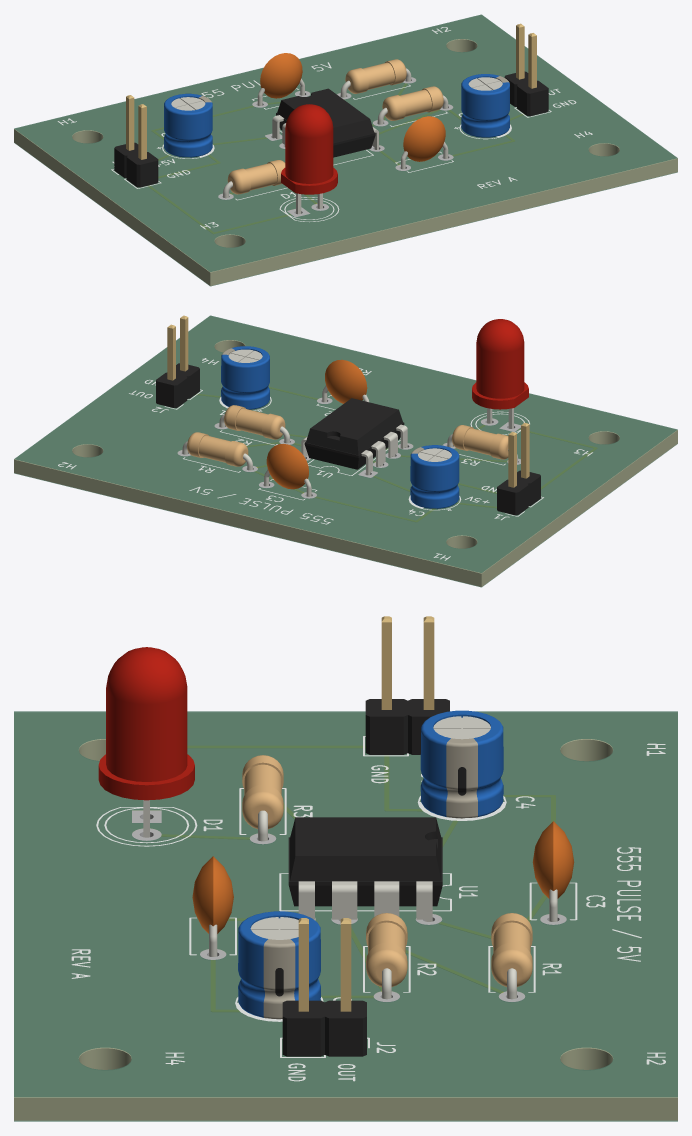
The model's file is 555-web.glb.
3 views of the same model, one above another, from view 1: azimuth 30°, elevation 25°; view 2: azimuth 150°, elevation 25°; view 3: azimuth 270°, elevation 25° (orthographic). The views are drawn at different scales.
Parts seen in each view (by area): view 1: =>[0:1:1:20], =>[0:1:1:18], =>[0:1:1:7], =>[0:1:1:3], =>[0:1:1:9], =>[0:1:1:13], =>[0:1:1:5], =>[0:1:1:17], =>[0:1:1:15], =>[0:1:1:14]; view 2: =>[0:1:1:20], =>[0:1:1:18], =>[0:1:1:7], =>[0:1:1:3], =>[0:1:1:9], =>[0:1:1:13], =>[0:1:1:5], =>[0:1:1:17], =>[0:1:1:15], =>[0:1:1:14]; view 3: =>[0:1:1:20], =>[0:1:1:18], =>[0:1:1:7], =>[0:1:1:9], =>[0:1:1:13], =>[0:1:1:3], =>[0:1:1:5], =>[0:1:1:17], =>[0:1:1:14], =>[0:1:1:15].
Boxes of the visible parts, x1,y1,x2,y2 form: =>[0:1:1:20]: [14, 15, 677, 285]; =>[0:1:1:18]: [14, 14, 677, 286]; =>[0:1:1:7]: [114, 23, 548, 187]; =>[0:1:1:3]: [171, 53, 502, 214]; =>[0:1:1:9]: [164, 74, 509, 157]; =>[0:1:1:13]: [281, 104, 337, 194]; =>[0:1:1:5]: [227, 59, 443, 194]; =>[0:1:1:17]: [57, 27, 592, 229]; =>[0:1:1:15]: [218, 77, 453, 217]; =>[0:1:1:14]: [149, 84, 522, 233]; =>[0:1:1:20]: [14, 316, 677, 586]; =>[0:1:1:18]: [14, 315, 677, 587]; =>[0:1:1:7]: [156, 315, 540, 515]; =>[0:1:1:3]: [182, 349, 517, 496]; =>[0:1:1:9]: [221, 346, 459, 508]; =>[0:1:1:13]: [472, 319, 528, 409]; =>[0:1:1:5]: [187, 405, 508, 466]; =>[0:1:1:17]: [58, 358, 592, 560]; =>[0:1:1:15]: [177, 398, 520, 498]; =>[0:1:1:14]: [198, 387, 596, 521]; =>[0:1:1:20]: [14, 713, 677, 1120]; =>[0:1:1:18]: [14, 711, 677, 1121]; =>[0:1:1:7]: [275, 616, 466, 1056]; =>[0:1:1:9]: [238, 710, 503, 1019]; =>[0:1:1:13]: [98, 647, 194, 800]; =>[0:1:1:3]: [143, 716, 574, 999]; =>[0:1:1:5]: [242, 755, 532, 986]; =>[0:1:1:17]: [71, 736, 665, 1081]; =>[0:1:1:14]: [162, 746, 555, 1011]; =>[0:1:1:15]: [132, 810, 566, 1001].
Size of the model in its own units: 0.055 by 0.0149 by 0.04.
